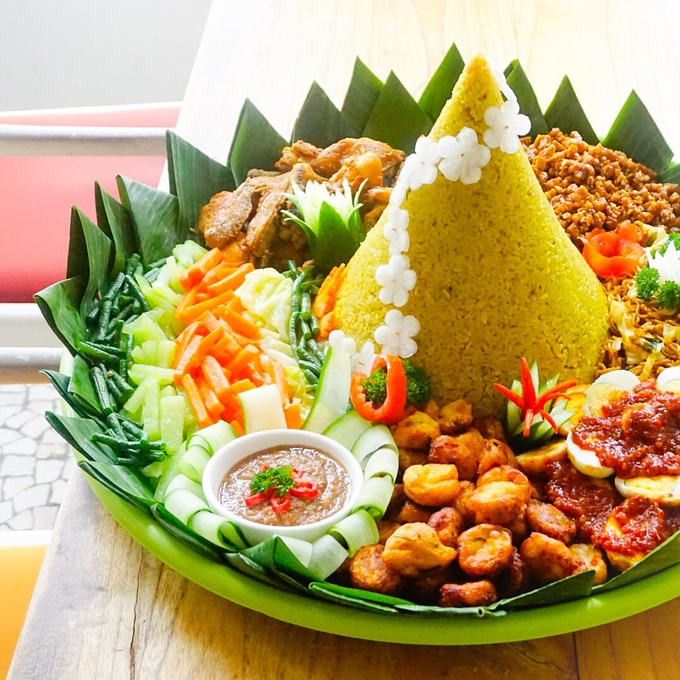nasi_tumpeng: (88, 51, 680, 606)
